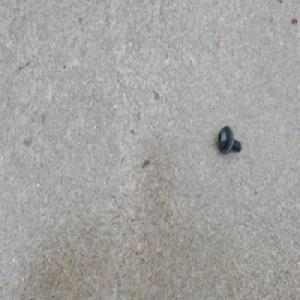BoltWasher: (216, 126, 241, 156)
